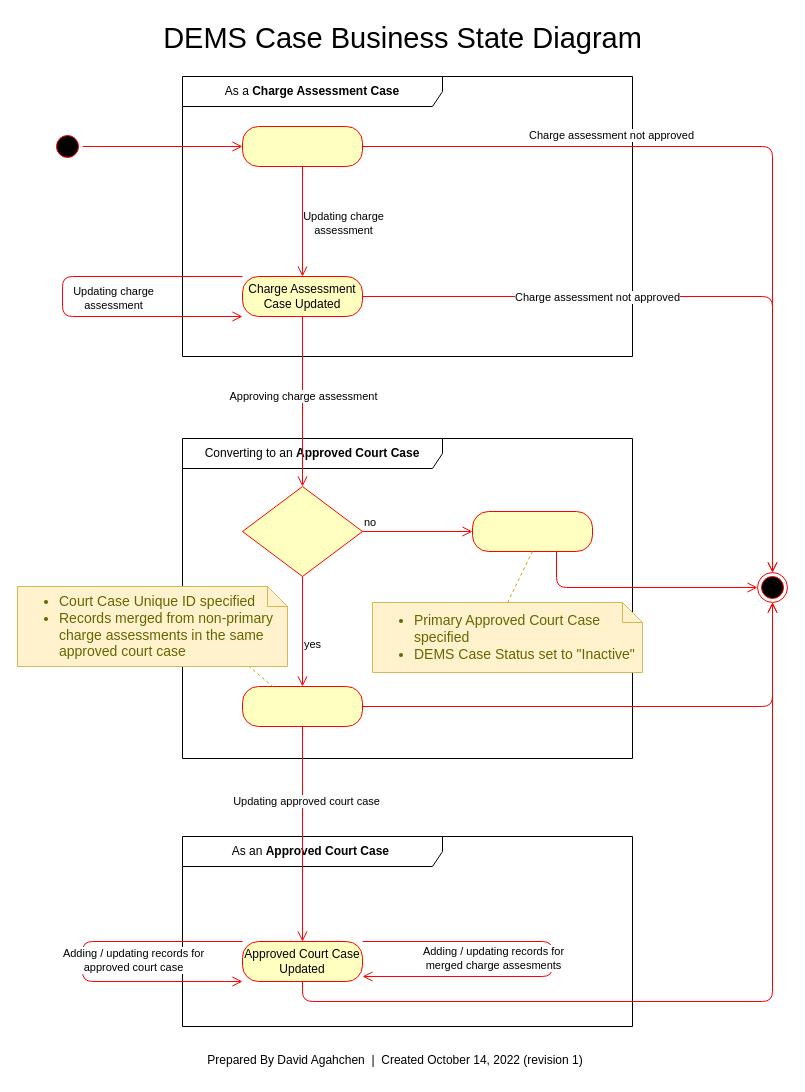
The diagram is 805 pixels wide and 1092 high, and some of its shapes have lost their labels. Each missing label, with the centre of its shape:
Approved Court Case Established: the point at 302,706
Charge Assessment Case Created: the point at 302,146
Charge Assessment Merged (inactive): the point at 532,531
Primary charge assessment?: the point at 302,531
